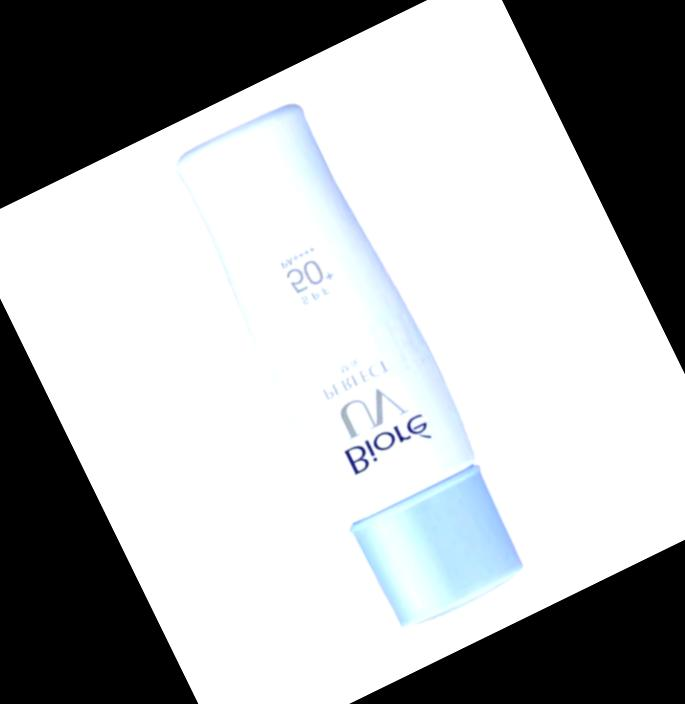cosmetic: (167, 98, 532, 630)
